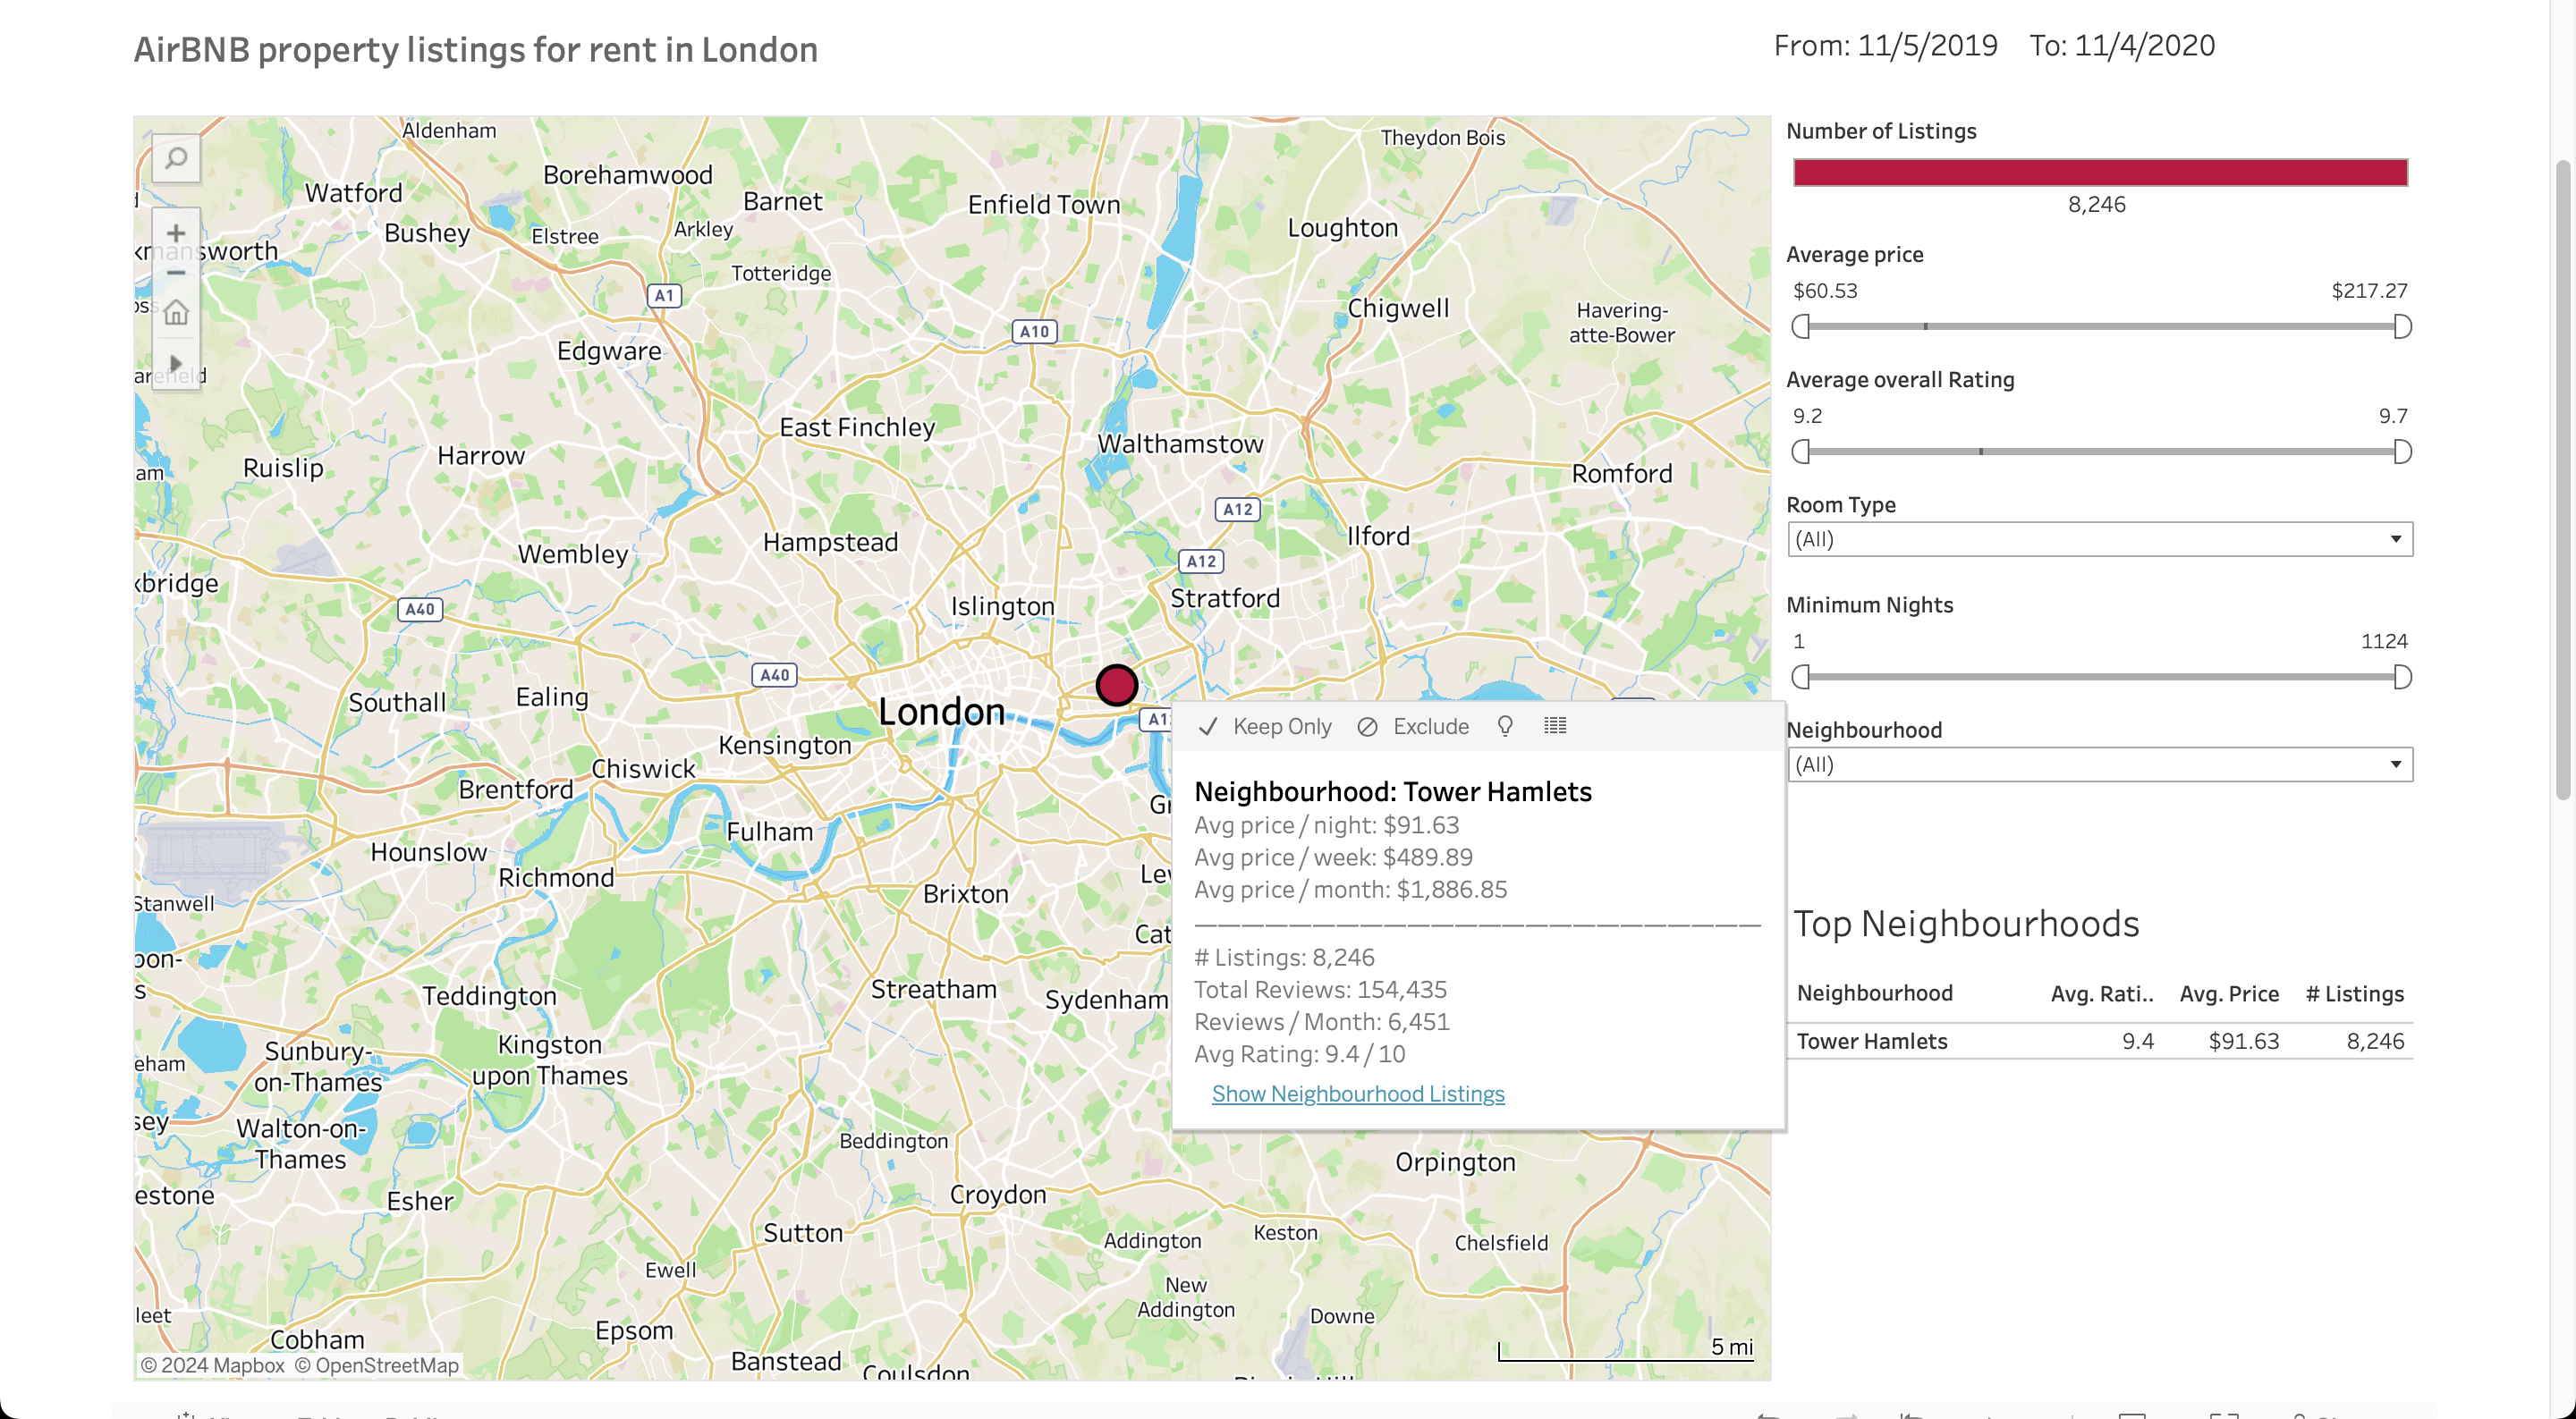

The page's visual inventory and layout, read from the dashboard file:
{"tool":"tableau","page":{"name":"London Dashboard","canvas":[1300,800],"ordinal":0},"visuals":[{"type":"text","box":[8,8,913,68]},{"type":"worksheet","title":"Show Date ","mark":"Text","box":[921,8,369,68]},{"type":"worksheet","title":"Listings based on London","mark":"Automatic","rows":["latitude (listings_summary.csv)"],"cols":["longitude (listings_summary.csv)"],"box":[8,76,924,716]},{"type":"legend","title":"Listings based on London","param":"[federated.07x1vm213vxf0q18wj5k70sd92d8].[ctd:id (listings_summary.csv):qk]","box":[932,76,360,65]},{"type":"filter","title":"Top Neighbourhoods","param":"[federated.07x1vm213vxf0q18wj5k70sd92d8].[avg:price (listings_summary.csv):qk]","box":[932,141,360,51]},{"type":"filter","title":"Top Neighbourhoods","param":"[federated.07x1vm213vxf0q18wj5k70sd92d8].[avg:Calculation_2187201315364352001:qk","box":[932,192,360,51]},{"type":"filter","title":"Top Neighbourhoods","param":"[federated.07x1vm213vxf0q18wj5k70sd92d8].[none:room_type (listings_summary.csv):","box":[932,243,360,52]},{"type":"filter","title":"Top Neighbourhoods","param":"[federated.07x1vm213vxf0q18wj5k70sd92d8].[none:minimum_nights (listings_summary.","box":[932,295,360,51]},{"type":"filter","title":"Listings based on London","param":"[federated.07x1vm213vxf0q18wj5k70sd92d8].[none:neighbourhood (listings_summary.c","box":[932,346,360,52]},{"type":"blank","box":[932,398,360,109]},{"type":"worksheet","title":"Top Neighbourhoods","mark":"Automatic","rows":["neighbourhood (listings_summary.csv)"],"box":[932,507,360,285]}]}

Visuals, with their boxes on the page's 1300x800 design canvas (x1, y1, x2, y2). These are canvas units, not pixel positions in the 2576x1419 screenshot, which may show the page scaled, cropped or inside an application window:
text: region(8, 8, 921, 76)
"Show Date " worksheet (Text marks): region(921, 8, 1290, 76)
"Listings based on London" worksheet: region(8, 76, 932, 792)
"Listings based on London" legend: region(932, 76, 1292, 141)
"Top Neighbourhoods" filter: region(932, 141, 1292, 192)
"Top Neighbourhoods" filter: region(932, 192, 1292, 243)
"Top Neighbourhoods" filter: region(932, 243, 1292, 295)
"Top Neighbourhoods" filter: region(932, 295, 1292, 346)
"Listings based on London" filter: region(932, 346, 1292, 398)
blank: region(932, 398, 1292, 507)
"Top Neighbourhoods" worksheet: region(932, 507, 1292, 792)
